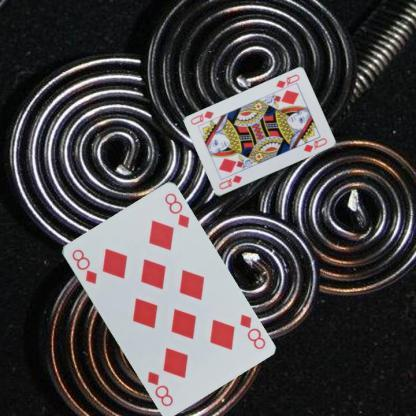8d: (237, 311, 267, 351), (69, 246, 98, 286)
Qd: (273, 72, 301, 93), (216, 172, 243, 192)
